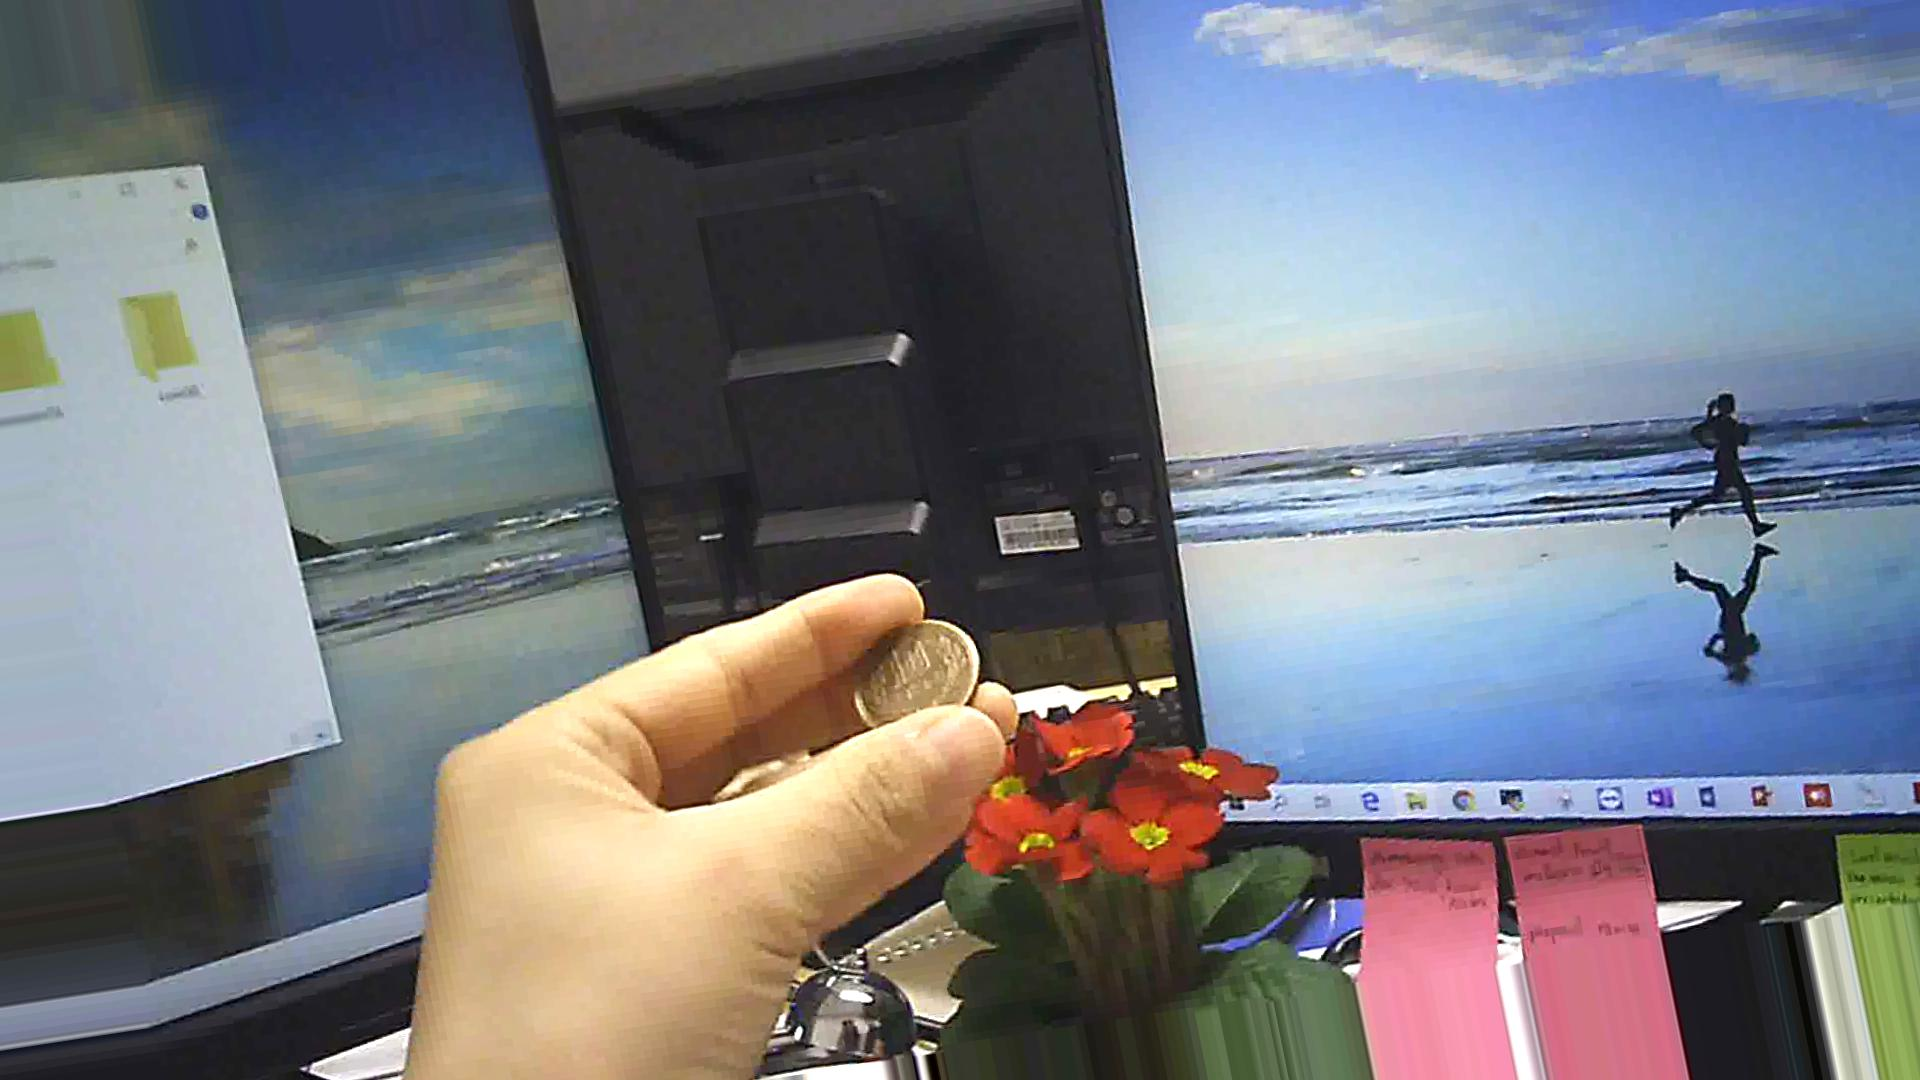10 Yen: (837, 611, 978, 724)
